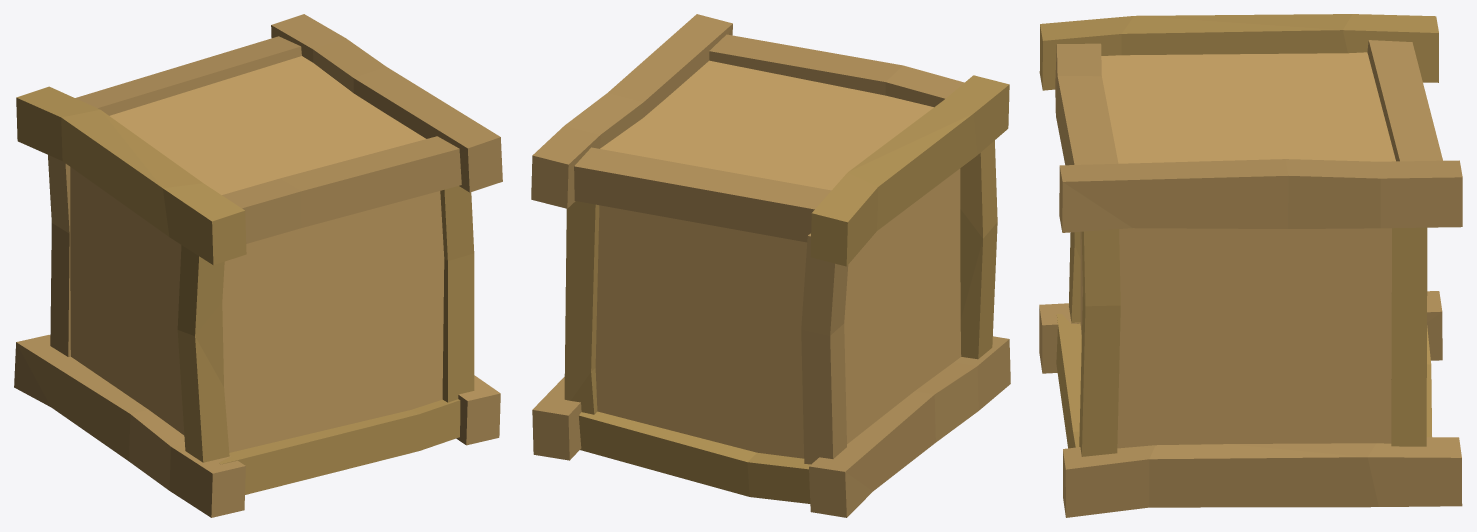
The model's file is Wood_Box_1.fbx.
The picture shows the model from 3 angles, left to right: view 1: azimuth 30°, elevation 25°; view 2: azimuth 150°, elevation 25°; view 3: azimuth 270°, elevation 25°; orthographic projection. The views are drawn at different scales.
Visible parts, largest first — view 1: Wood_Box_1; view 2: Wood_Box_1; view 3: Wood_Box_1.
Part boxes in pixels (box(x1,y1,x2,y2)): Wood_Box_1: box(14, 14, 502, 517); Wood_Box_1: box(531, 14, 1010, 517); Wood_Box_1: box(1039, 14, 1462, 517).
Bounding box in the file's own units: 122 × 112 × 126.
